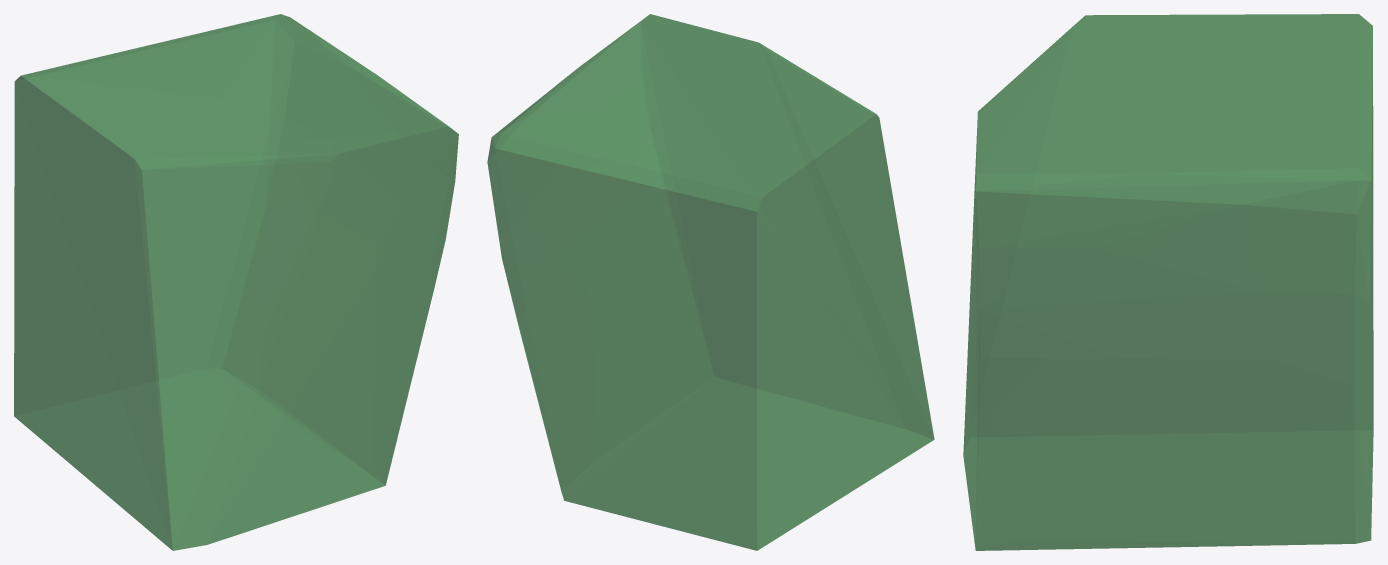
3 renders of one model, left to right at view 1: azimuth 30°, elevation 25°; view 2: azimuth 150°, elevation 25°; view 3: azimuth 270°, elevation 25°, orthographic. The views are drawn at different scales.
Parts seen in each view (by area): view 1: Shape_IndexedFaceSet.003_Shape_IndexedFaceSet.5905; view 2: Shape_IndexedFaceSet.003_Shape_IndexedFaceSet.5905; view 3: Shape_IndexedFaceSet.003_Shape_IndexedFaceSet.5905.
Part boxes in pixels (x1=…): Shape_IndexedFaceSet.003_Shape_IndexedFaceSet.5905: x1=14, y1=14, x2=458, y2=550; Shape_IndexedFaceSet.003_Shape_IndexedFaceSet.5905: x1=487, y1=14, x2=934, y2=550; Shape_IndexedFaceSet.003_Shape_IndexedFaceSet.5905: x1=963, y1=14, x2=1373, y2=550.
Bounding box in the file's own units: 0.5441 × 0.6402 × 0.5551.
